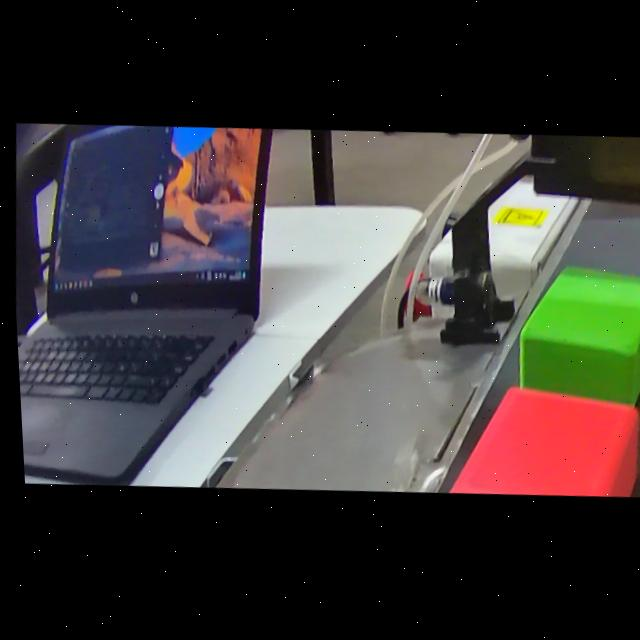greenBox: (505, 256, 640, 421)
redBox: (428, 376, 640, 506)
